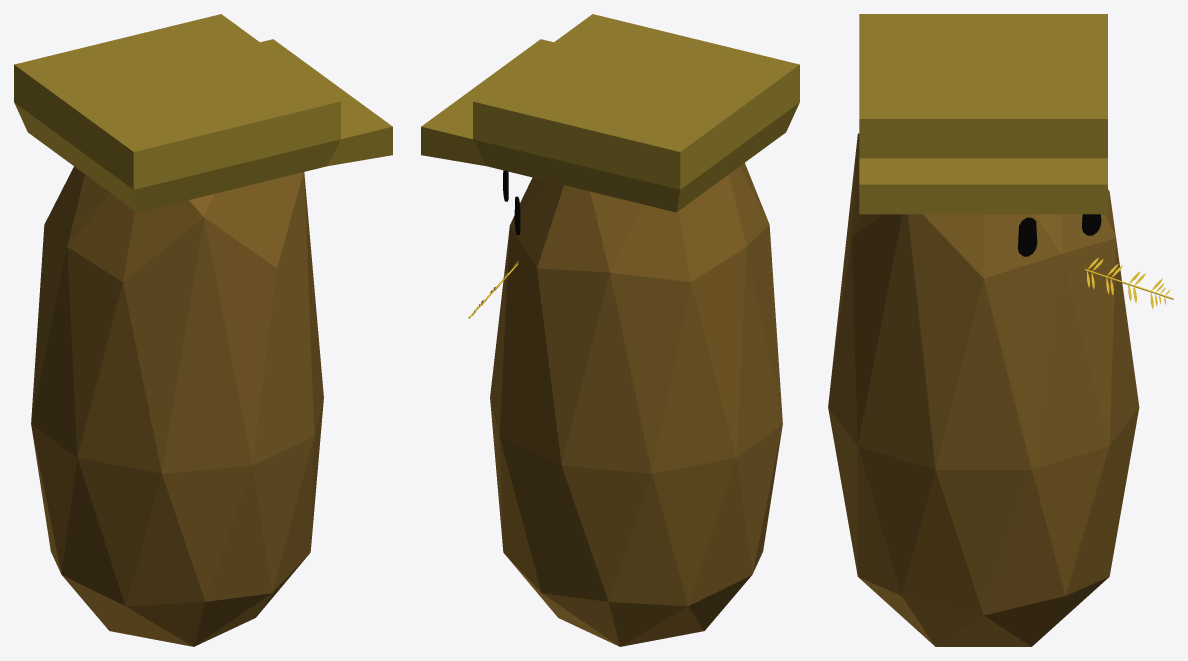
The model's file is Gardener.fbx.
The picture shows the model from 3 angles, left to right: view 1: azimuth 30°, elevation 25°; view 2: azimuth 150°, elevation 25°; view 3: azimuth 270°, elevation 25°; orthographic projection. The views are drawn at different scales.
Parts seen in each view (by area): view 1: Icosphere, Cube; view 2: Icosphere, Cube; view 3: Icosphere, Cube, Cylinder, Circle.
Boxes of the visible parts, x1,y1,x2,y2 form: Icosphere: (31,166,323,646); Cube: (14,14,392,212); Icosphere: (490,163,782,646); Cube: (421,14,799,212); Icosphere: (828,133,1139,646); Cube: (859,14,1107,214); Cylinder: (1085,257,1173,308); Circle: (1018,217,1037,256).
Size of the model in its own units: 2.15 by 3.97 by 2.22.
